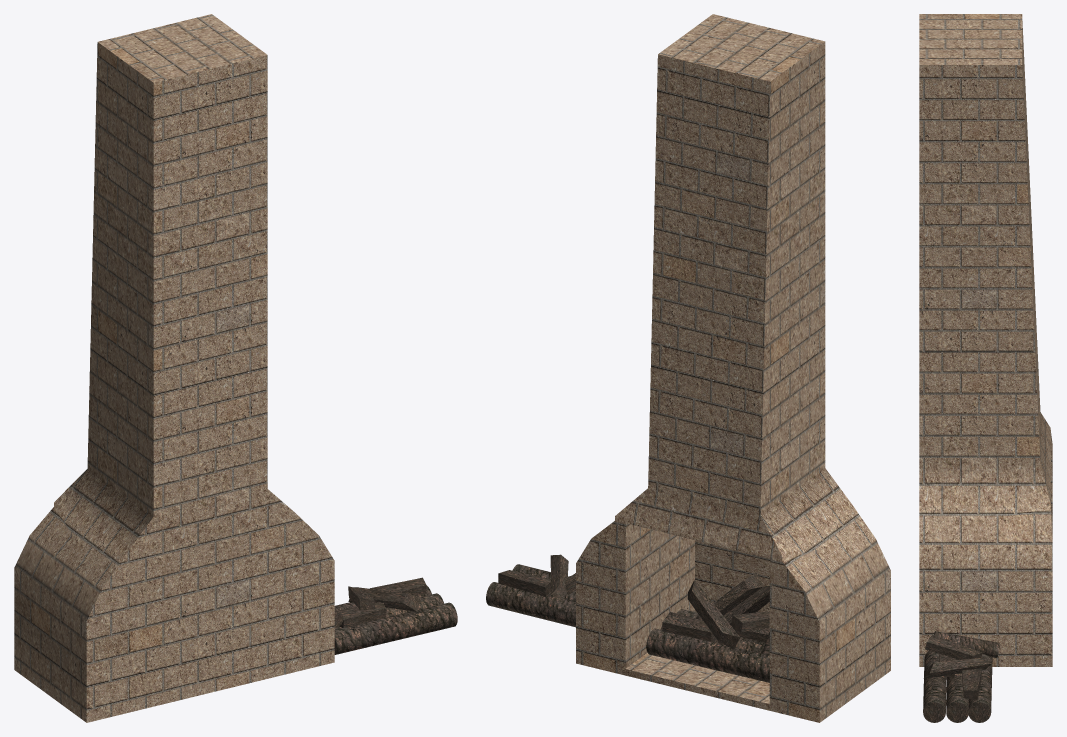
The model's file is Chimney.fbx.
3 renders of one model, left to right at view 1: azimuth 30°, elevation 25°; view 2: azimuth 150°, elevation 25°; view 3: azimuth 270°, elevation 25°, orthographic. The views are drawn at different scales.
Visible parts, largest first — view 1: polySurface19; view 2: polySurface19; view 3: polySurface19.
Part boxes in pixels (x1,y1,x2,y2): polySurface19: (14, 14, 457, 722); polySurface19: (486, 14, 890, 722); polySurface19: (919, 14, 1052, 722).
Size of the model in its own units: 13.45 by 21.49 by 4.53.
